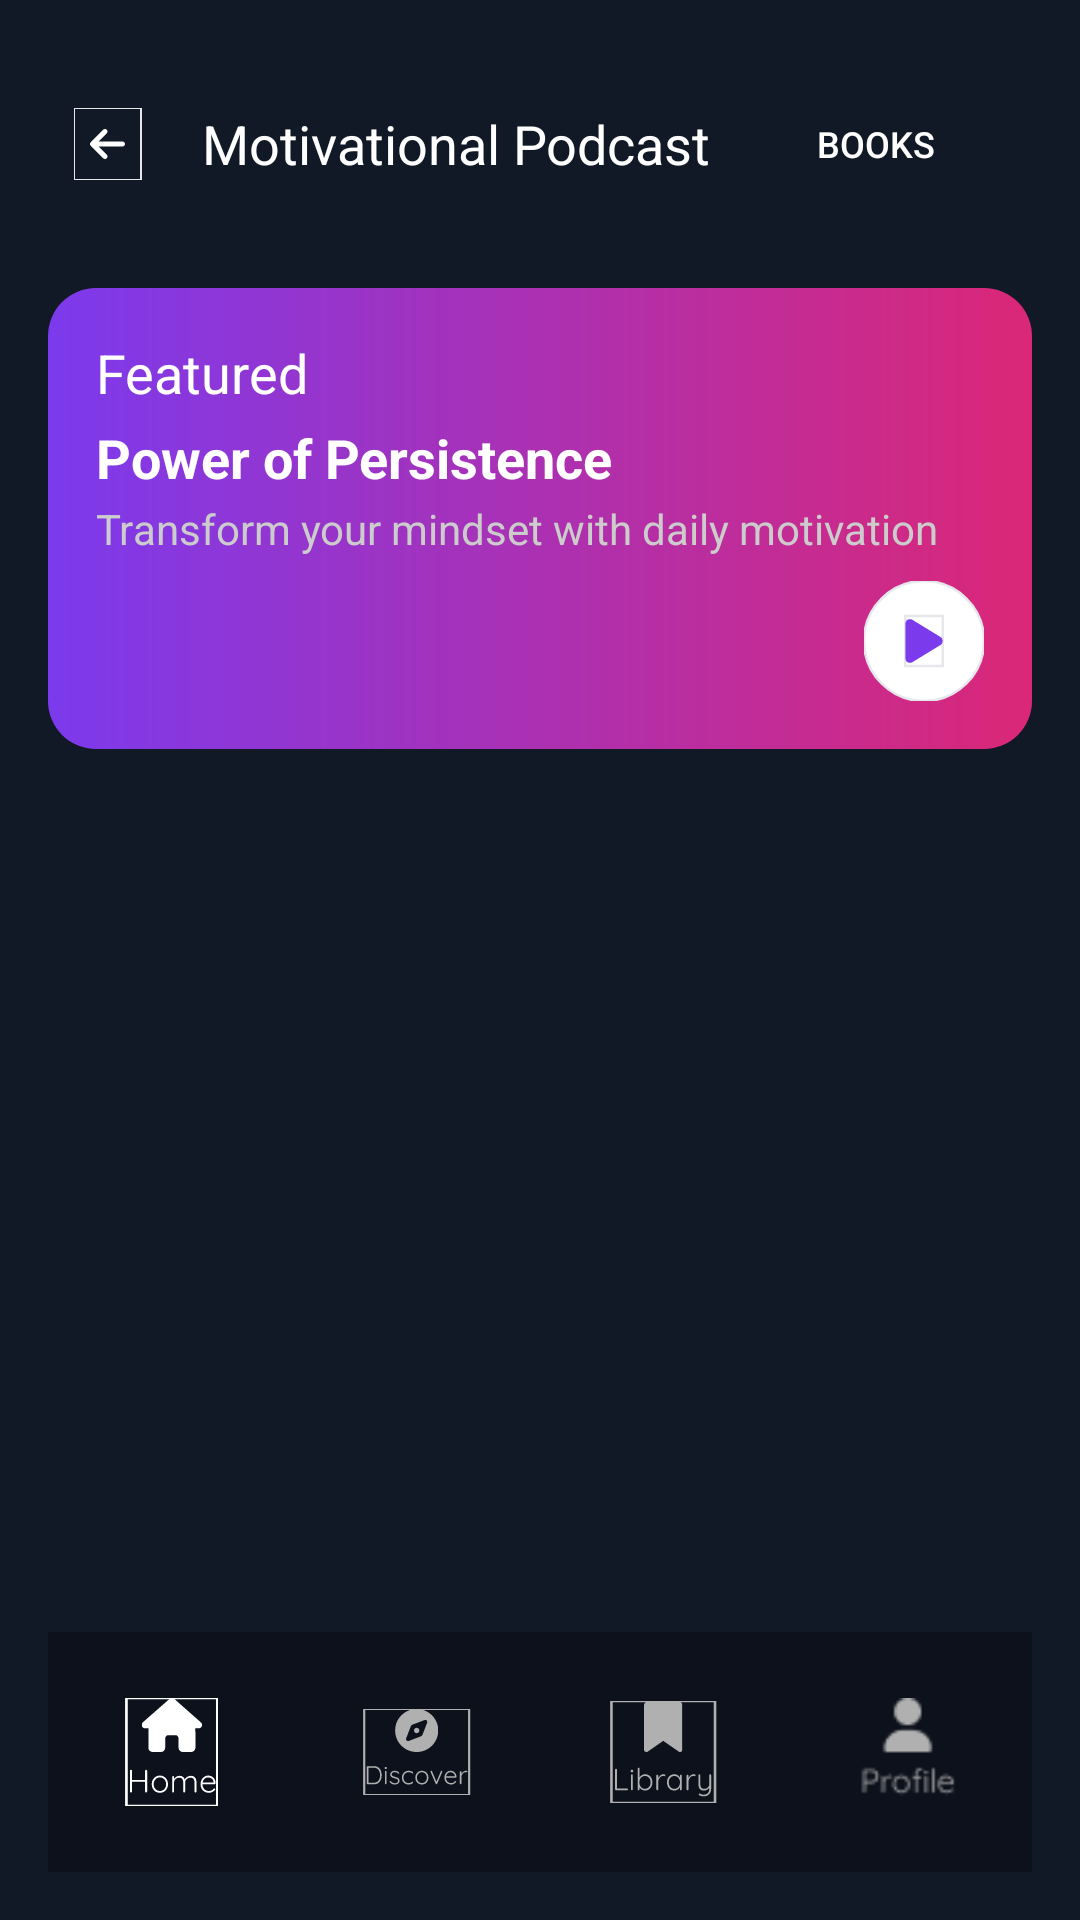

Icons on this 1080w x 1920h Android screen, each with the point to tap as point (x, y):
backbutt: point (108, 144)
play: point (924, 641)
